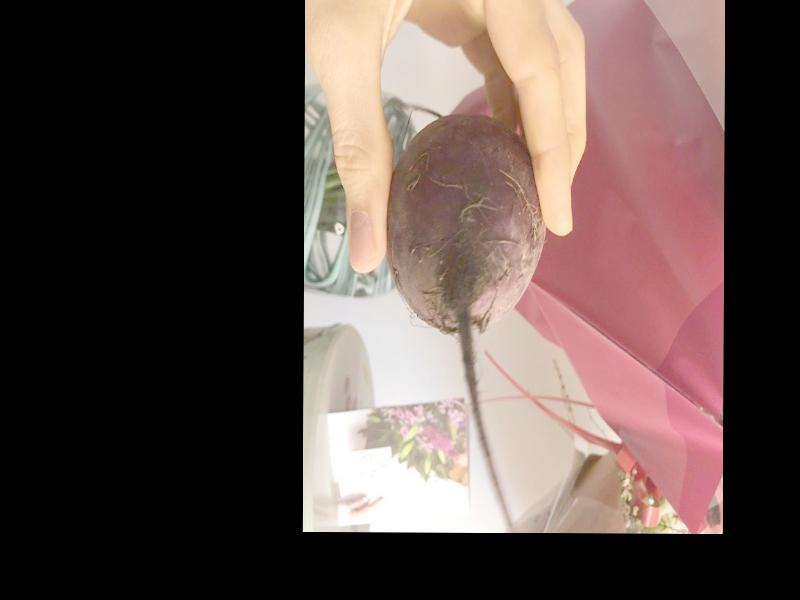Beet: (384, 107, 545, 533)
